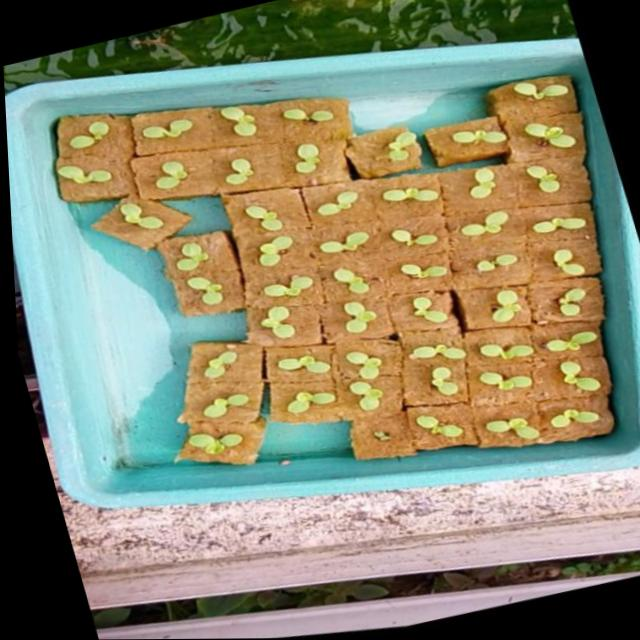Baby: (451, 117, 508, 158), (117, 199, 176, 238), (58, 118, 121, 151), (506, 163, 572, 193), (280, 349, 333, 379), (241, 236, 294, 265), (78, 153, 134, 180), (560, 288, 604, 321), (262, 270, 312, 299), (134, 120, 194, 144), (408, 293, 454, 324), (466, 255, 528, 278), (524, 122, 577, 147), (545, 330, 605, 352), (171, 237, 209, 271), (461, 211, 509, 236), (512, 81, 574, 100), (190, 430, 245, 451), (564, 361, 603, 390), (489, 418, 542, 439), (264, 304, 298, 336), (206, 390, 251, 414), (246, 202, 283, 231), (420, 414, 466, 437), (288, 101, 332, 125), (494, 290, 526, 323), (322, 231, 370, 253), (222, 107, 257, 137), (347, 300, 379, 332), (349, 350, 385, 378), (334, 267, 370, 293), (353, 378, 385, 407), (207, 348, 240, 376), (390, 228, 441, 246), (552, 409, 600, 428), (160, 161, 191, 190), (291, 394, 337, 413), (412, 344, 469, 359), (533, 217, 586, 233), (389, 132, 417, 162), (553, 250, 586, 275), (482, 344, 536, 359), (434, 366, 461, 395), (470, 169, 497, 198), (296, 143, 322, 173), (190, 283, 225, 305), (401, 263, 448, 278), (227, 158, 254, 184), (327, 191, 356, 214), (493, 375, 534, 389), (396, 180, 420, 203)
